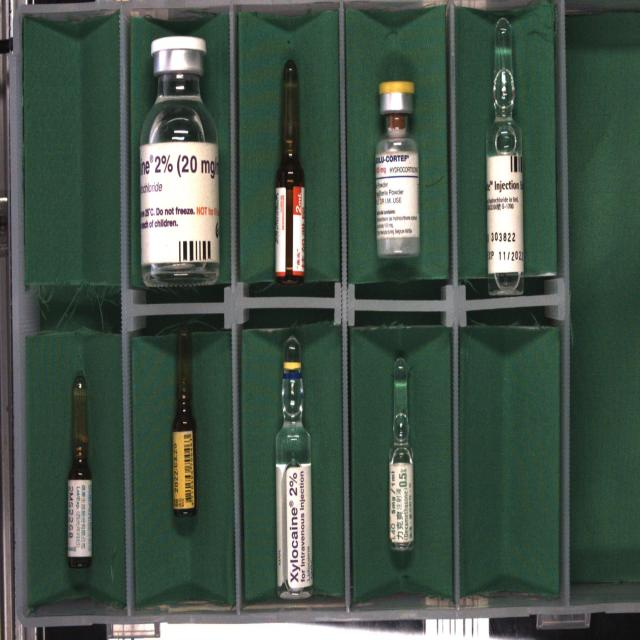Vials: (140, 36, 219, 286), (376, 81, 419, 259)
